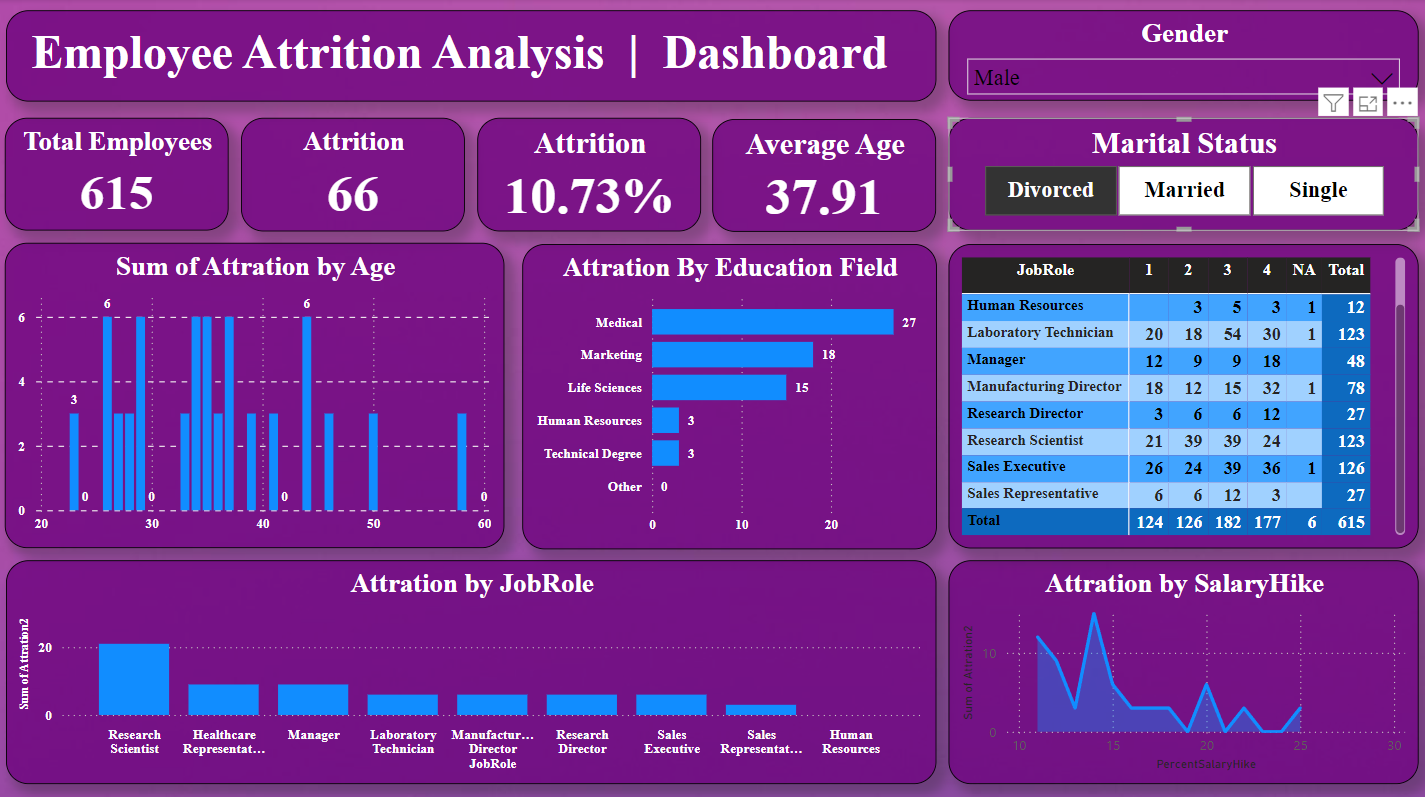

What the dashboard file says about the page in this screenshot:
{"tool":"powerbi","page":{"name":"Page 1","canvas":[1280,720],"ordinal":0},"visuals":[{"type":"card","title":"Total Employees","fields":{"Values":["Sum(Attrition data.EmployeeCount)"]},"box":[8.1,105.8,200,101.2],"z":0},{"type":"card","title":"Attrition","fields":{"Values":["Sum(Attrition data.Attration2)"]},"box":[218.6,105.7,200,101.4],"z":1000},{"type":"card","title":"Attrition","fields":{"Values":["Attrition data.Attrition Percentage"]},"box":[430,105.7,200,101.4],"z":2000},{"type":"card","title":"Average Age","fields":{"Values":["Avg(Attrition data.Age)"]},"box":[640,106.7,200,101.1],"z":3000},{"type":"clusteredBarChart","title":"Attration By Education Field","fields":{"Category":["Attrition data.EducationField"],"Y":["Sum(Attrition data.Attration2)"]},"box":[470,218.6,370,272.9],"z":4000},{"type":"columnChart","title":"Sum of Attration by Age","fields":{"Category":["Attrition data.Age"],"Y":["Sum(Attrition data.Attration2)"]},"box":[8.2,218.2,446.5,272.9],"z":5000},{"type":"textbox","box":[8.6,10,831.4,81.4],"z":6000},{"type":"columnChart","title":"Attration by JobRole","fields":{"Y":["Sum(Attrition data.Attration2)"],"Category":["Attrition data.JobRole"]},"box":[8.9,501.1,831.1,200],"z":7000},{"type":"areaChart","title":"Attration by SalaryHike","fields":{"Category":["Attrition data.PercentSalaryHike"],"Y":["Sum(Attrition data.Attration2)"]},"box":[851.1,501.1,420,200],"z":8000},{"type":"pivotTable","fields":{"Rows":["Attrition data.JobRole"],"Columns":["Attrition data.JobSatisfaction"],"Values":["Sum(Attrition data.EmployeeCount)"]},"box":[851.1,218.9,420,272.2],"z":9000},{"type":"slicer","title":"Gender","fields":{"Values":["Attrition data.Gender"]},"box":[851.1,10,420,81.1],"z":10000},{"type":"slicer","title":"Marital Status","fields":{"Values":["Attrition data.MaritalStatus"]},"box":[851.1,105.6,420,101.1],"z":11000}]}

Visuals, with their boxes in screenshot pixels (x1, y1, x2, y2), scaled from the page's 1280x720 canvas onto the 1425x797 screenshot:
"Total Employees" card: 9 117 232 229
"Attrition" card: 243 117 466 229
"Attrition" card: 479 117 701 229
"Average Age" card: 712 118 935 230
"Attration By Education Field" clusteredBarChart: 523 242 935 544
"Sum of Attration by Age" columnChart: 9 242 506 544
textbox: 10 11 935 101
"Attration by JobRole" columnChart: 10 555 935 776
"Attration by SalaryHike" areaChart: 948 555 1415 776
pivotTable - Attrition data.JobRole x Attrition data.JobSatisfaction: 948 242 1415 544
"Gender" slicer: 948 11 1415 101
"Marital Status" slicer: 948 117 1415 229
